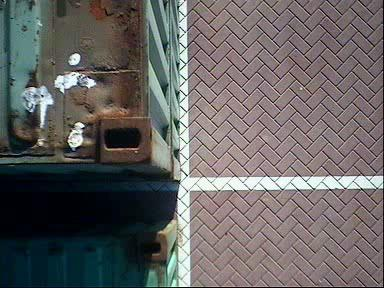groundmarker_2: (52, 66, 136, 109)
